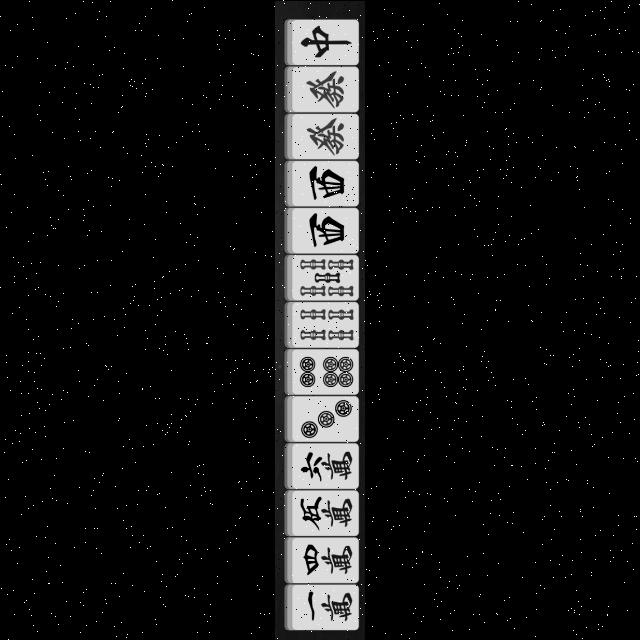1m: (291, 584, 359, 630)
3p: (294, 396, 358, 439)
4m: (294, 537, 358, 581)
4s: (296, 300, 358, 346)
5m: (296, 490, 358, 532)
5s: (294, 254, 358, 298)
6m: (294, 442, 360, 486)
6p: (294, 348, 358, 394)
chun: (291, 20, 359, 62)
hatsu: (291, 64, 361, 110), (294, 113, 361, 157)
sha: (294, 160, 360, 203), (294, 208, 358, 250)
